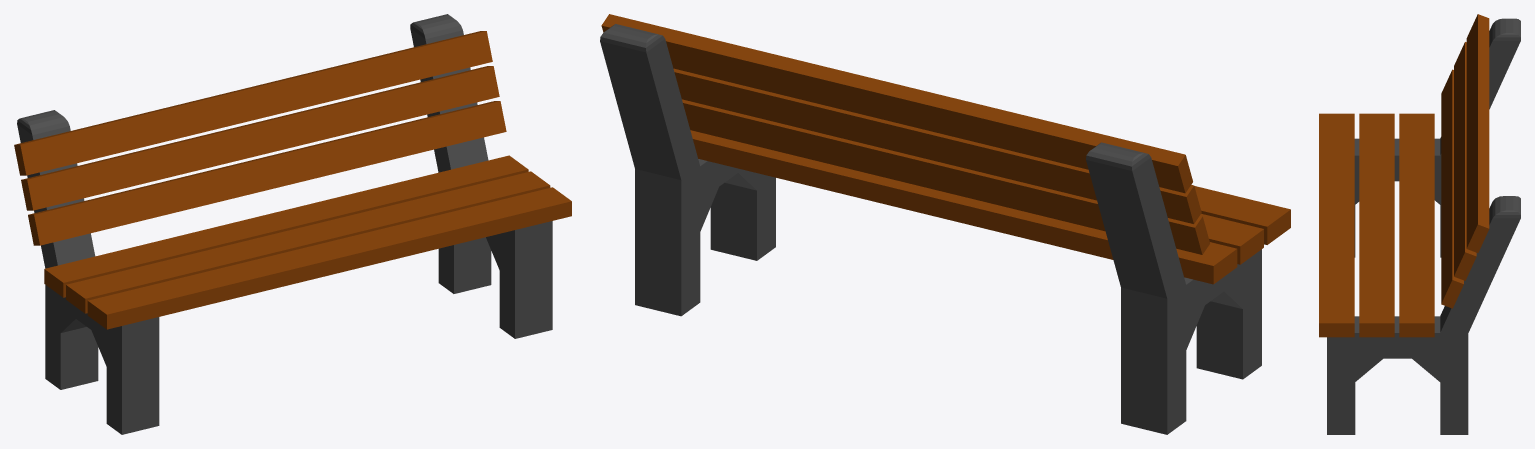
Rendered from Parkbank.fbx.
The picture shows the model from 3 angles, left to right: view 1: azimuth 30°, elevation 25°; view 2: azimuth 150°, elevation 25°; view 3: azimuth 270°, elevation 25°; orthographic projection. The views are drawn at different scales.
Visible parts, largest first — view 1: Cube, Cube.004, Cube.006, Cube.005, Cube.001, Cube.002, Cube.003; view 2: Cube, Cube.006, Cube.005, Cube.004, Cube.003, Cube.001, Cube.002; view 3: Cube, Cube.001, Cube.002, Cube.003, Cube.006, Cube.004, Cube.005.
Part boxes in pixels (box(x1,y1,x2,y2)): Cube: box(17, 14, 552, 434); Cube.004: box(28, 101, 506, 245); Cube.006: box(14, 31, 492, 175); Cube.005: box(21, 66, 499, 210); Cube.001: box(87, 187, 571, 329); Cube.002: box(66, 171, 550, 313); Cube.003: box(44, 155, 528, 297); Cube: box(600, 24, 1261, 434); Cube.006: box(601, 14, 1192, 193); Cube.005: box(673, 68, 1201, 223); Cube.004: box(682, 99, 1209, 254); Cube.003: box(690, 130, 1237, 284); Cube.001: box(1194, 186, 1290, 244); Cube.002: box(1200, 213, 1263, 264); Cube: box(1327, 18, 1520, 434); Cube.001: box(1319, 113, 1354, 337); Cube.002: box(1359, 113, 1394, 337); Cube.003: box(1399, 113, 1434, 337); Cube.006: box(1466, 14, 1489, 252); Cube.004: box(1441, 69, 1463, 308); Cube.005: box(1454, 42, 1476, 280).
Size of the model in its own units: 703 by 348 by 285.
